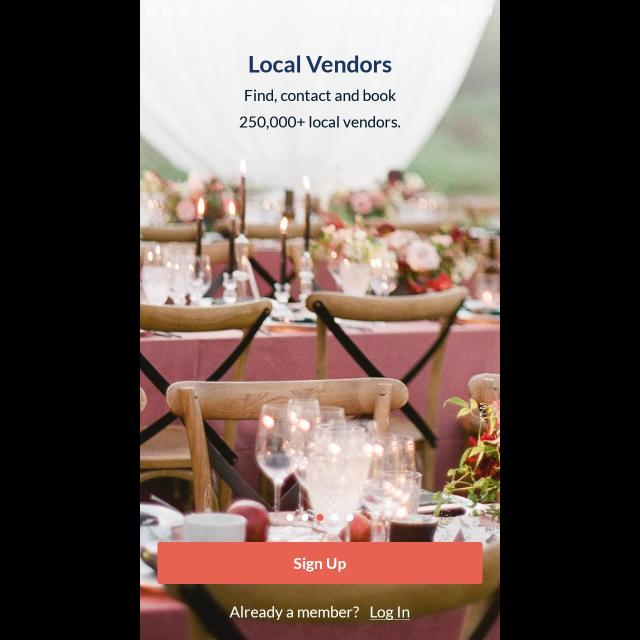backgroundimage: (140, 18, 500, 640)
pageindicator: (286, 513, 354, 521)
text: (250, 55, 392, 73), (240, 116, 400, 130), (246, 90, 396, 104), (229, 606, 359, 620), (370, 606, 410, 620)
textbutton: (158, 542, 482, 584)
uppertaskbar: (140, 1, 500, 19)
